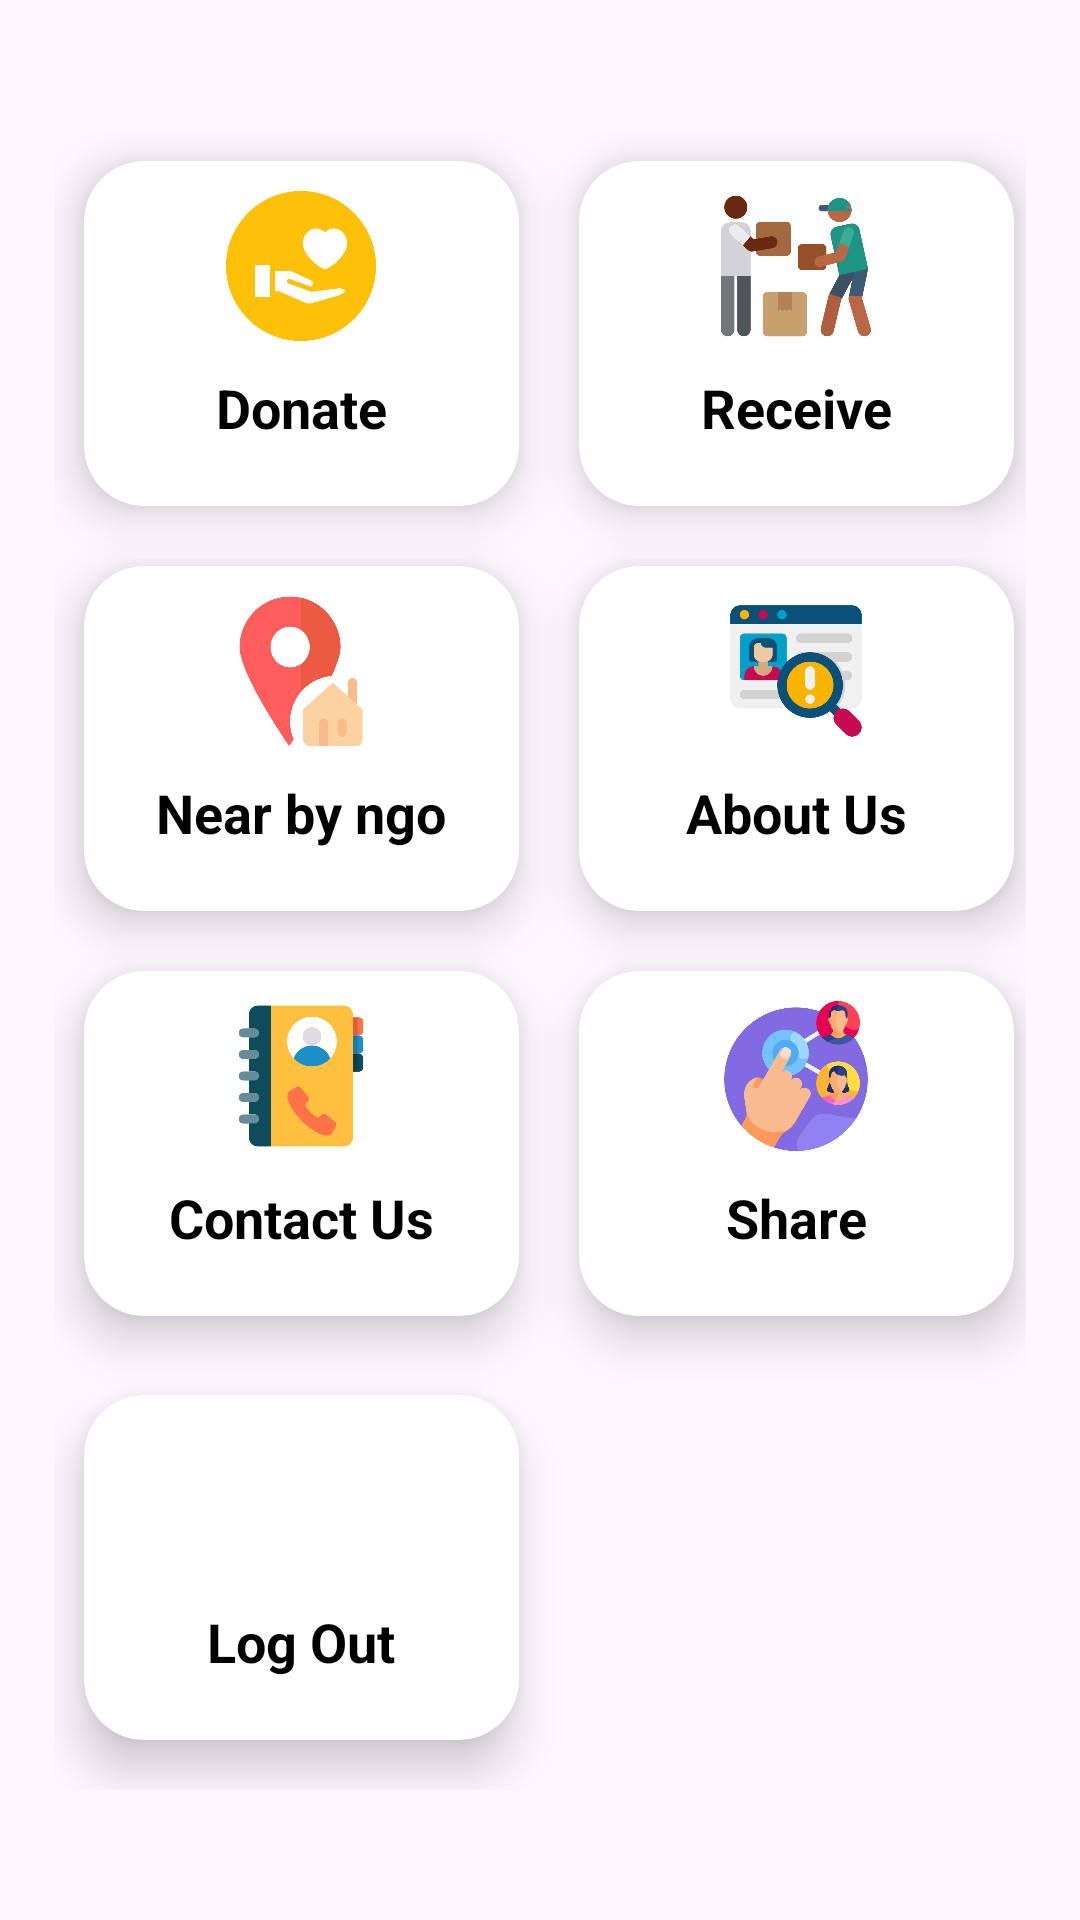

Where to tap for icons on this 1080px×1920px app screen, as (x,y):
nearbyicon: (301,671)
